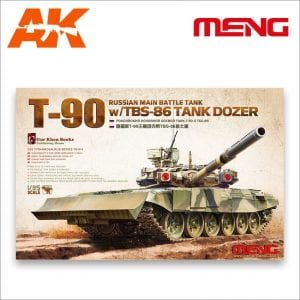Battle Tank: (37, 144, 279, 239)
